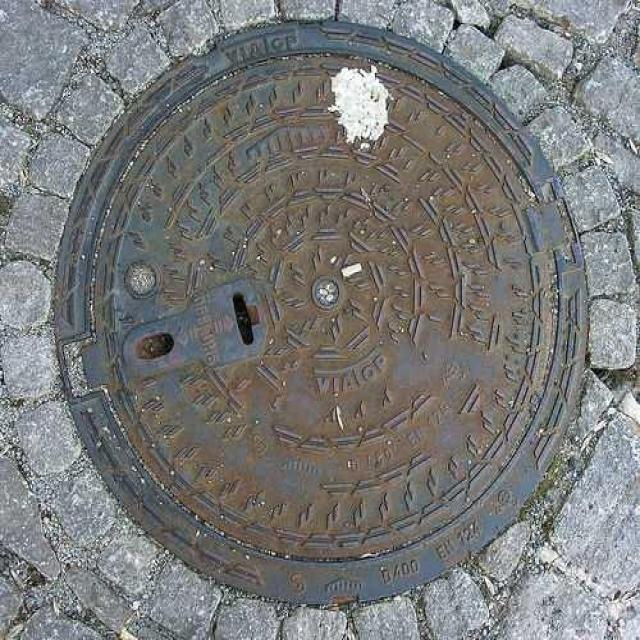manhole: (54, 20, 589, 610)
